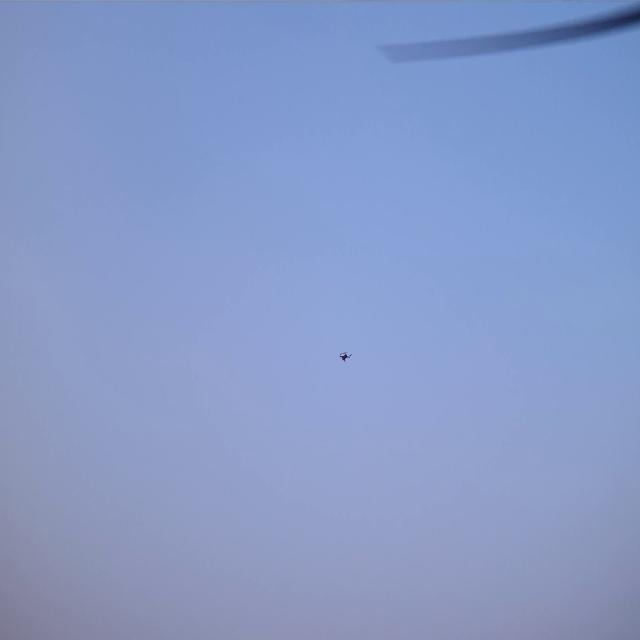UAV: (338, 349, 353, 364)
